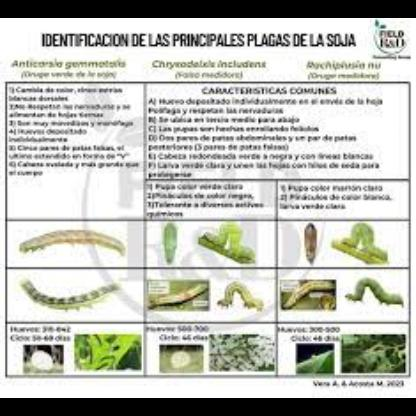oruga: (21, 277, 127, 315), (16, 233, 129, 261), (331, 224, 387, 266), (198, 225, 254, 265), (280, 273, 338, 311), (345, 276, 405, 310), (218, 278, 268, 316), (151, 282, 209, 310), (302, 223, 322, 267), (164, 223, 178, 267)
